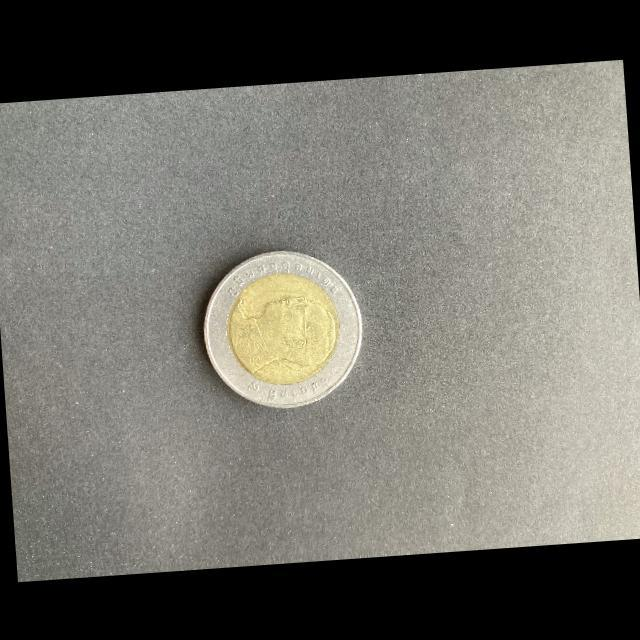10 Bath: (199, 246, 368, 416)
